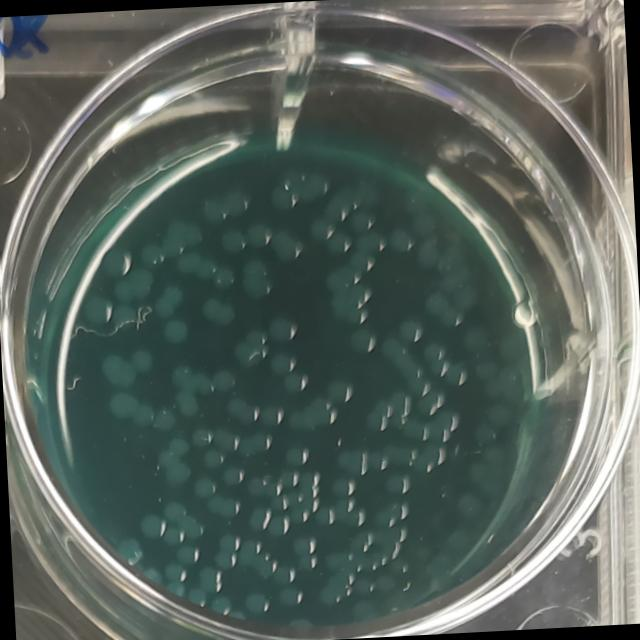other: (322, 268, 374, 328), (339, 529, 407, 572), (269, 165, 329, 212), (170, 362, 211, 416), (286, 392, 338, 432), (379, 335, 422, 381), (422, 286, 466, 330), (153, 437, 192, 485), (238, 534, 278, 578), (199, 292, 245, 330), (200, 192, 248, 226), (348, 231, 386, 273), (369, 437, 417, 470), (241, 258, 273, 302), (233, 330, 270, 368), (318, 569, 356, 606), (427, 409, 463, 447), (332, 446, 370, 482), (100, 349, 136, 386), (152, 282, 186, 320), (269, 227, 302, 264), (383, 384, 415, 418), (292, 533, 320, 571), (178, 251, 215, 279), (346, 326, 378, 358), (137, 238, 169, 270), (212, 534, 242, 568), (238, 430, 274, 458), (372, 500, 408, 528), (414, 444, 446, 474), (416, 388, 448, 418), (138, 510, 170, 540), (114, 536, 144, 568), (398, 416, 430, 446), (422, 341, 449, 376), (102, 248, 132, 279), (81, 293, 112, 323), (455, 490, 486, 520), (225, 396, 258, 424), (157, 318, 190, 346), (208, 492, 242, 519), (104, 391, 138, 418), (363, 400, 393, 430), (335, 499, 365, 528), (323, 376, 353, 404), (387, 226, 417, 254), (176, 511, 204, 539), (268, 315, 297, 342), (280, 367, 307, 396), (108, 307, 138, 333), (269, 347, 296, 375), (218, 228, 246, 255), (246, 502, 272, 531), (309, 217, 336, 244), (394, 318, 422, 344), (130, 402, 158, 428), (130, 346, 156, 374), (212, 366, 238, 393), (244, 222, 271, 248), (326, 228, 353, 254), (490, 399, 516, 426), (150, 407, 178, 432), (260, 402, 286, 428), (161, 498, 188, 523), (282, 441, 310, 465), (246, 590, 274, 614), (200, 564, 222, 594), (206, 593, 234, 616), (220, 464, 246, 488), (447, 363, 472, 387), (313, 504, 338, 528), (280, 583, 304, 608), (333, 478, 357, 502), (266, 513, 290, 537), (192, 478, 216, 502), (386, 470, 411, 493), (177, 543, 201, 566), (186, 586, 210, 609), (212, 268, 237, 290), (166, 560, 188, 584), (162, 524, 184, 548), (274, 563, 297, 585), (193, 424, 214, 448), (262, 478, 285, 499), (278, 466, 300, 487), (164, 578, 187, 598), (202, 448, 224, 468), (247, 476, 267, 496)
